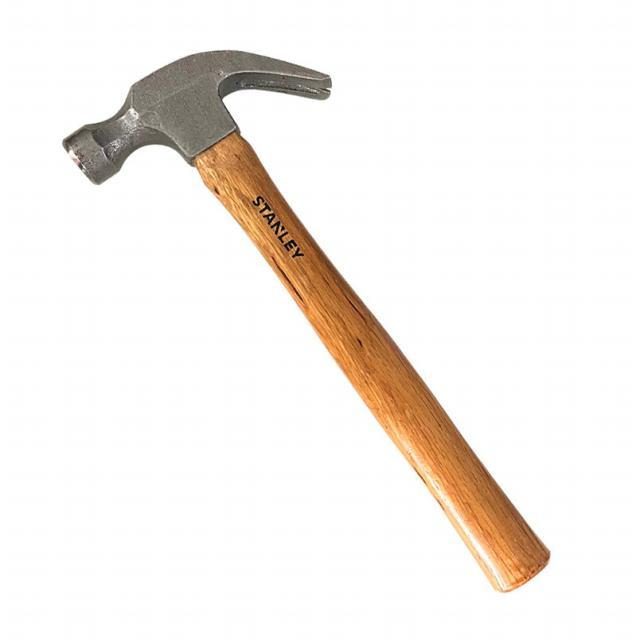hammer: (55, 32, 558, 603)
